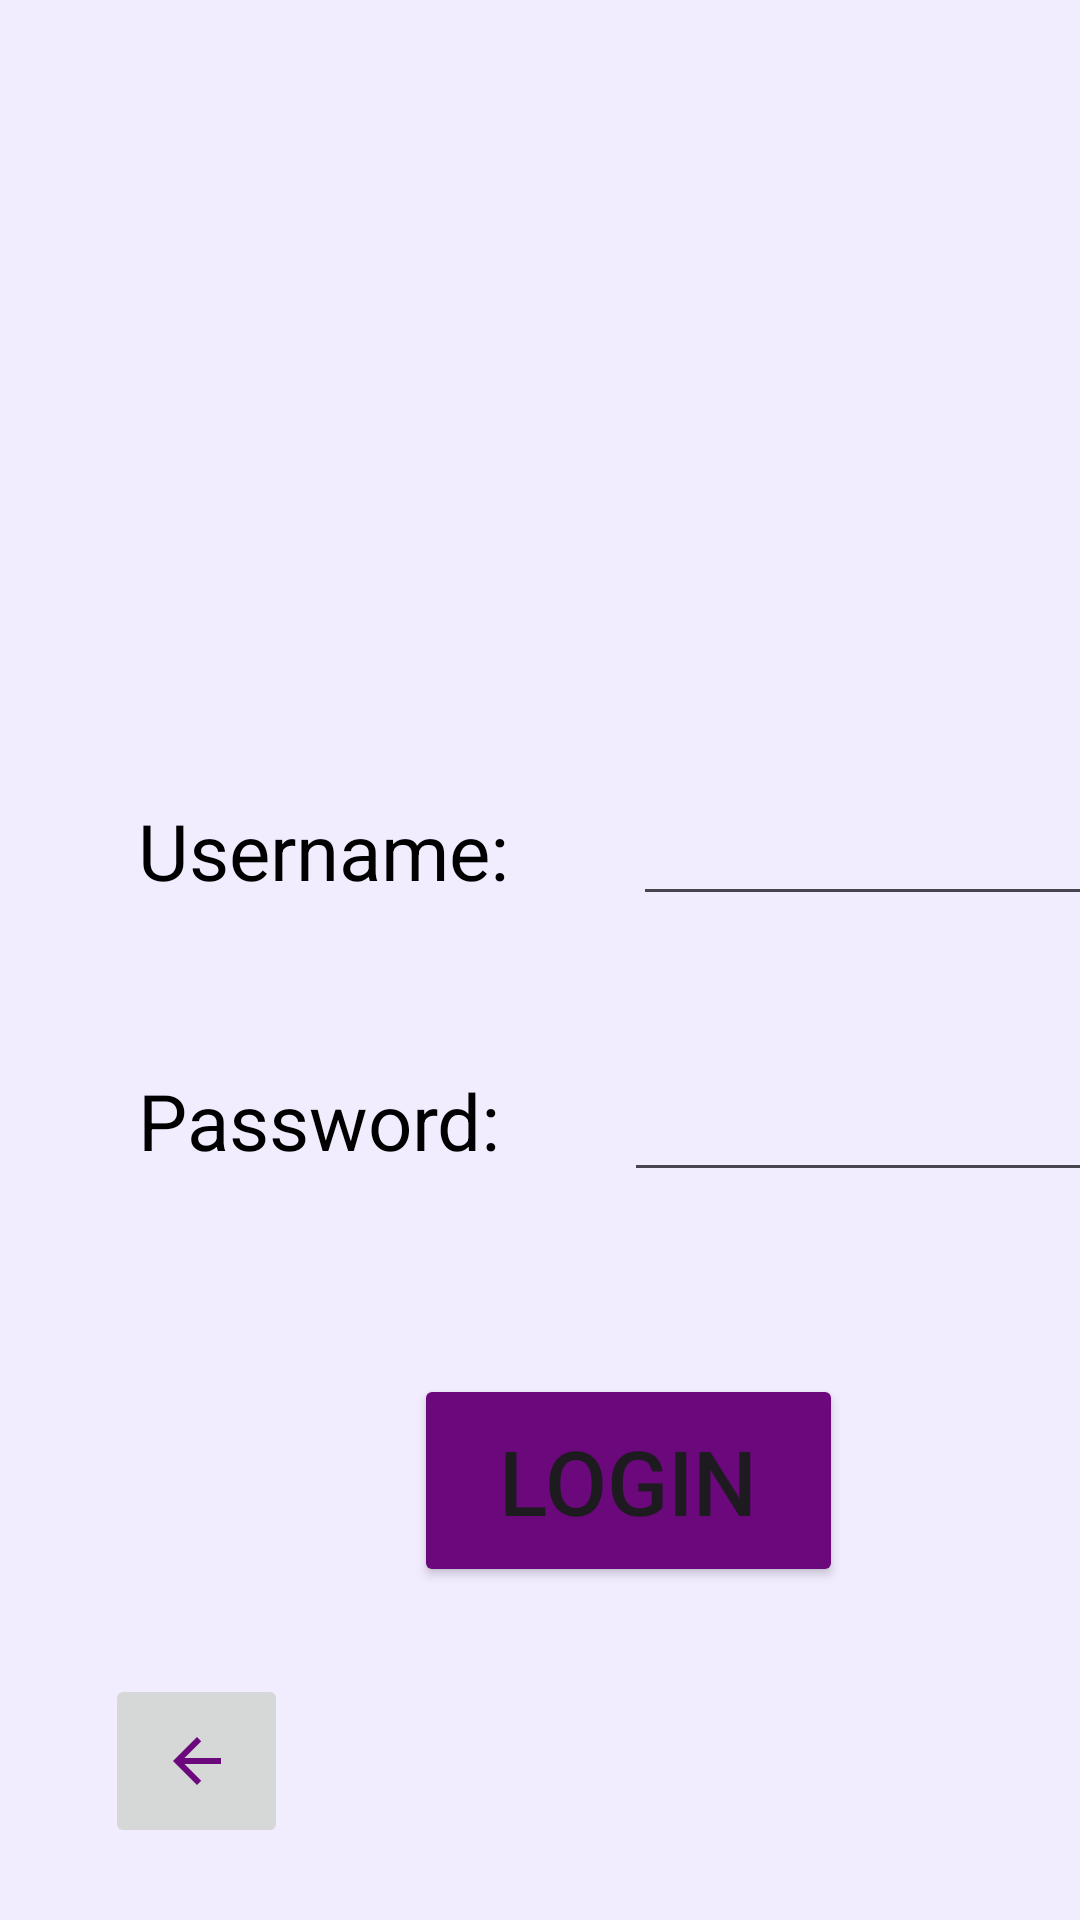

Point at icon controls on the screen. Image size 1080px×1920px, points as [x,y].
arrow back: [196,1761]
